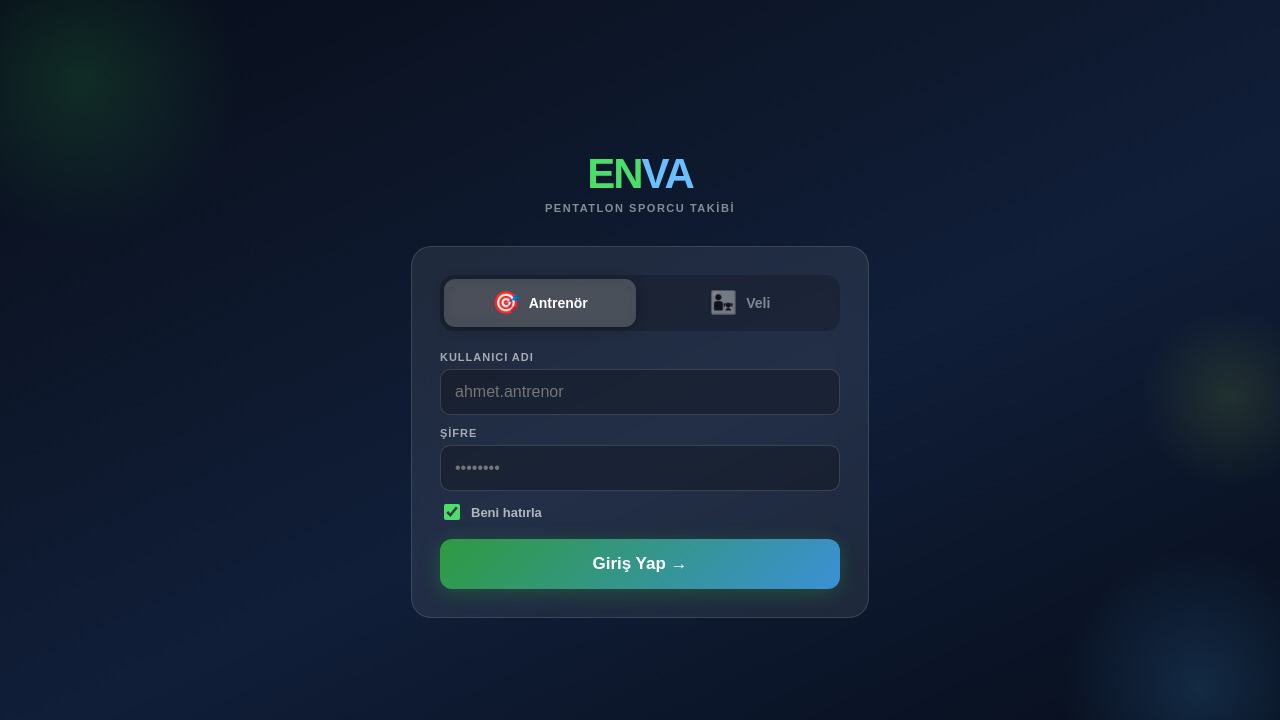
Test: shows error message on invalid login
Click the button "Giriş Yap →" at {"x": 640, "y": 564}, box [440,539,840,589]
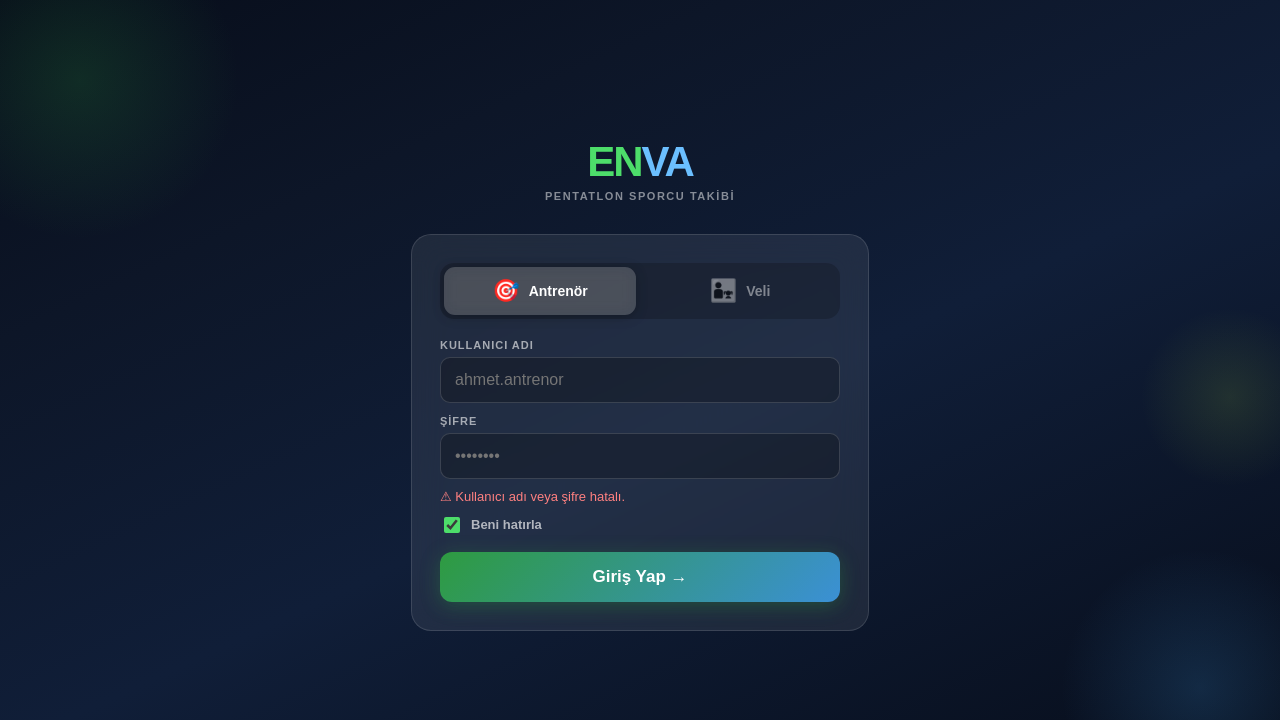
Now the text "⚠ Kullanıcı adı veya şifre hatalı." is shown, box [440,488,625,504]
